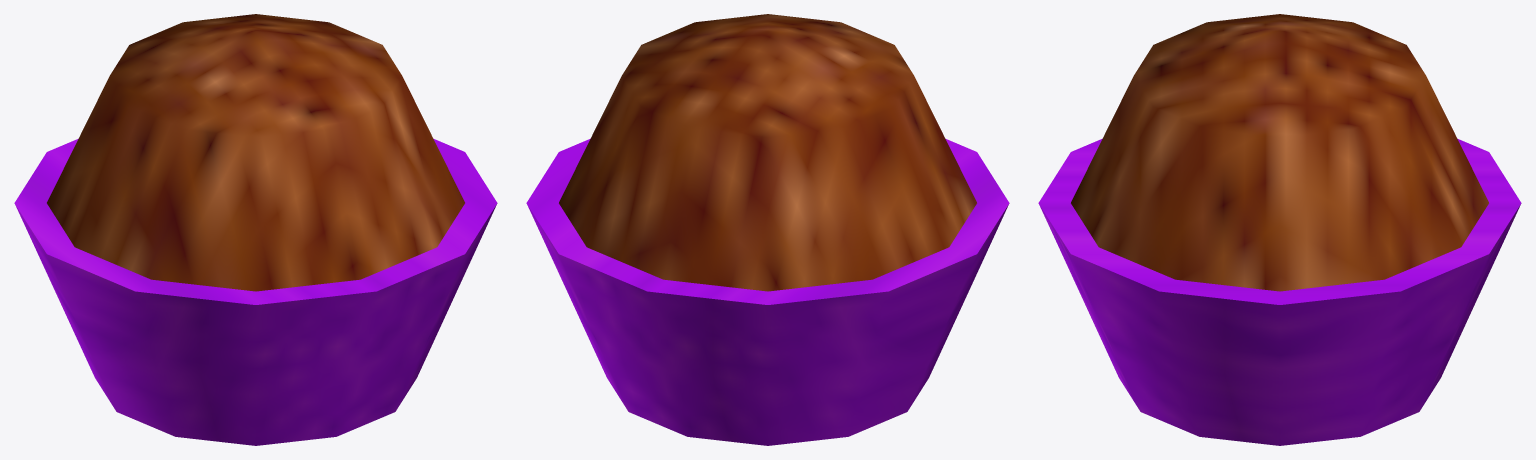
The model's file is Cupcake.fbx.
3 views of the same model, side by side, from view 1: azimuth 30°, elevation 25°; view 2: azimuth 150°, elevation 25°; view 3: azimuth 270°, elevation 25° (orthographic).
Parts seen in each view (by area): view 1: Brigadeiro; view 2: Brigadeiro; view 3: Brigadeiro.
Boxes of the visible parts, left/top/right/bottom form: Brigadeiro: left=14, top=14, right=497, bottom=445; Brigadeiro: left=526, top=14, right=1009, bottom=445; Brigadeiro: left=1038, top=14, right=1521, bottom=445.
Size of the model in its own units: 0.052 by 0.0412 by 0.052.
